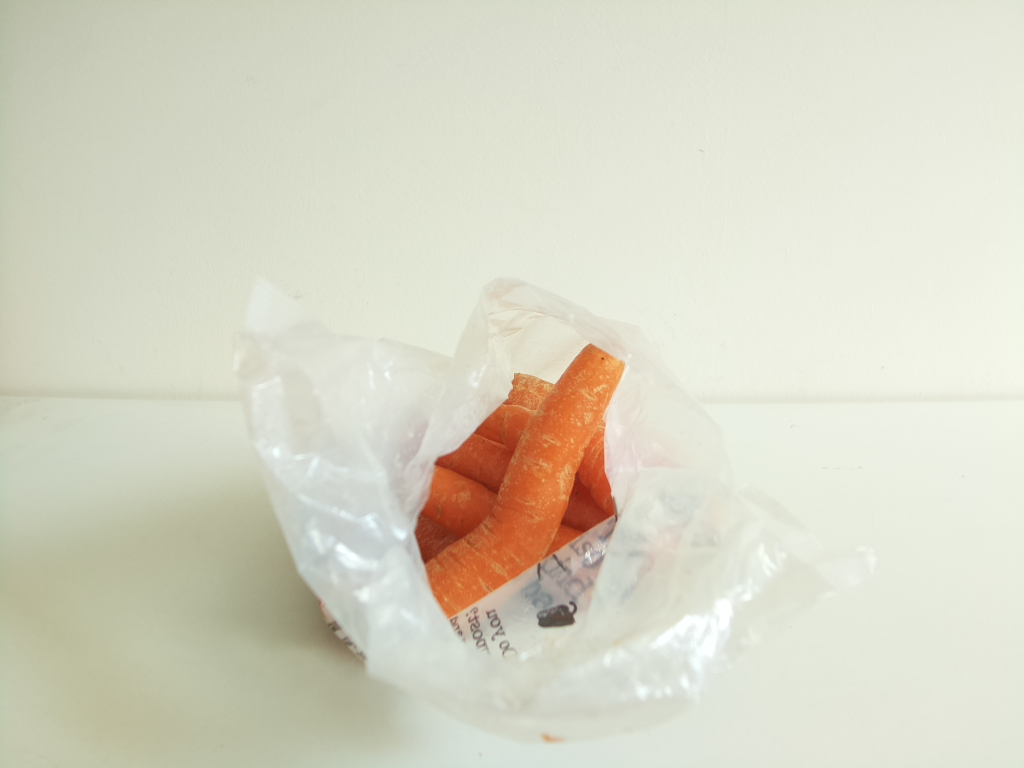carrot: (415, 340, 624, 614)
